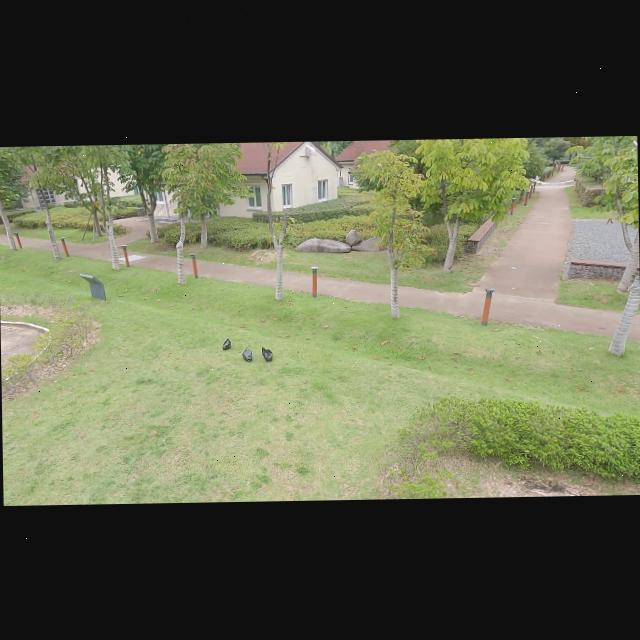trash: (238, 346, 255, 362), (260, 342, 272, 363), (220, 336, 232, 351)
